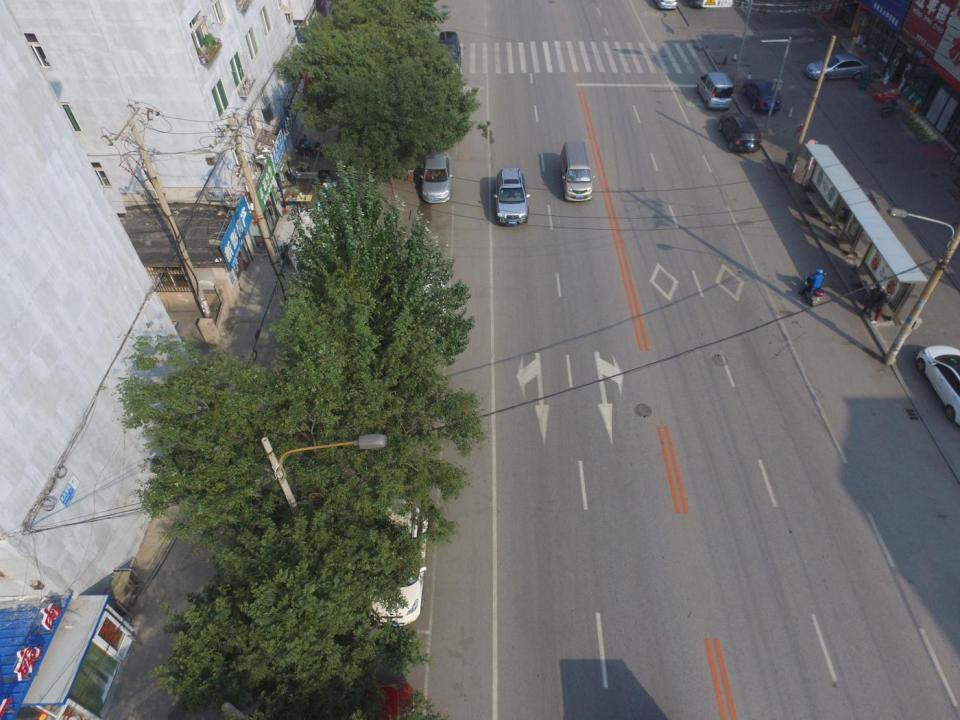car: (366, 496, 430, 627), (916, 345, 960, 425), (494, 168, 530, 228), (805, 54, 872, 82), (718, 112, 762, 154), (420, 151, 452, 203), (743, 78, 783, 113), (438, 31, 462, 73)
van: (560, 141, 596, 202), (696, 72, 734, 110)
